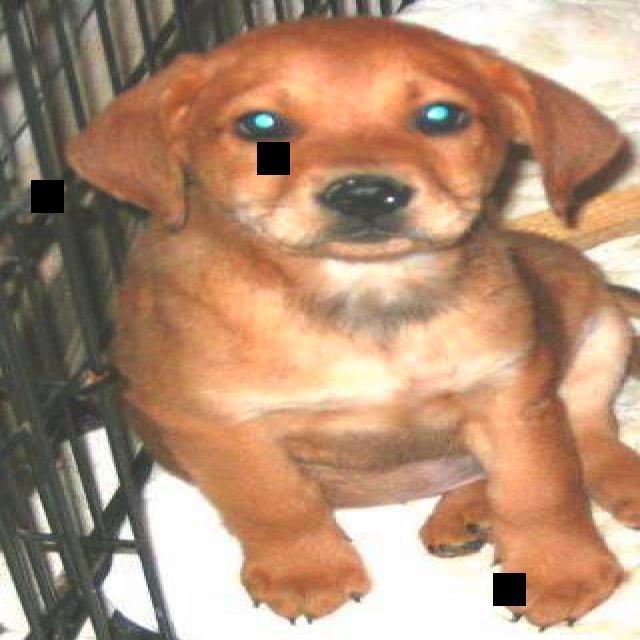puppy-dog: (68, 11, 640, 631)
